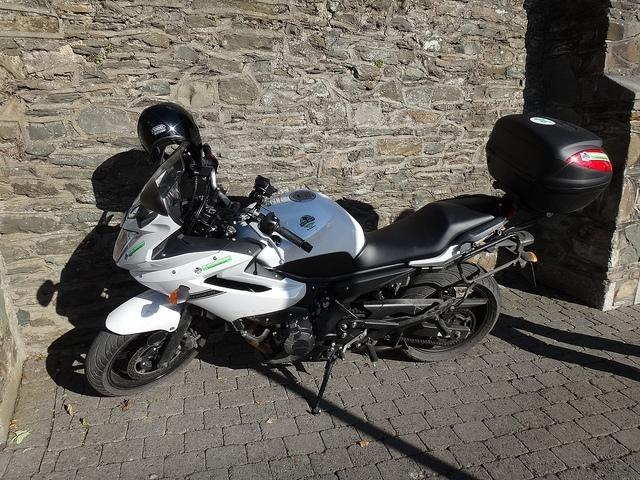motorcycle: (86, 132, 535, 402)
